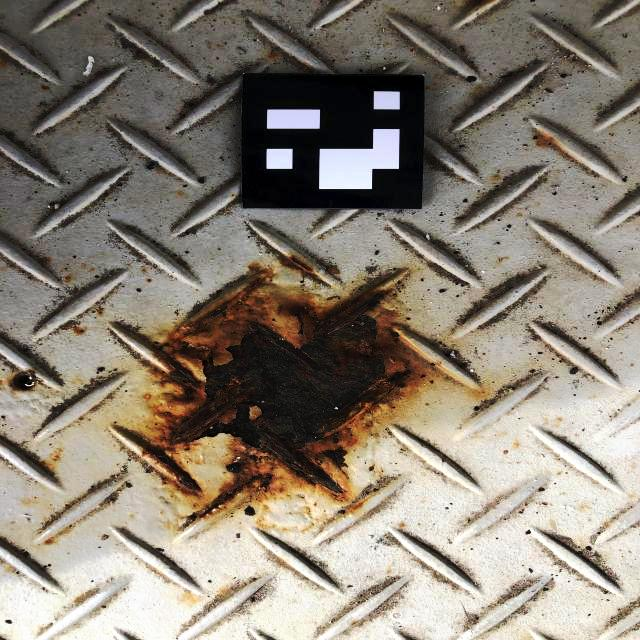Corrosion: (141, 263, 462, 534), (280, 253, 319, 280), (8, 369, 45, 392), (537, 131, 571, 156), (37, 448, 63, 476), (43, 527, 70, 545), (72, 589, 95, 604), (0, 48, 14, 68), (469, 0, 488, 10), (220, 588, 233, 600), (150, 567, 165, 577), (266, 50, 280, 59), (39, 257, 52, 266), (75, 328, 85, 334), (460, 44, 467, 52), (38, 626, 44, 633)
